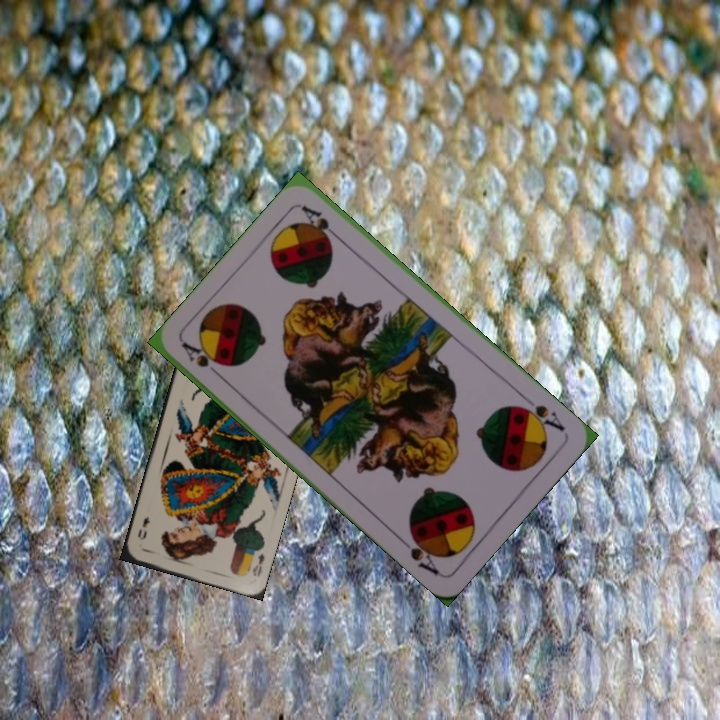EO: (248, 541, 267, 579)
SA: (512, 392, 568, 435), (178, 338, 227, 383)
